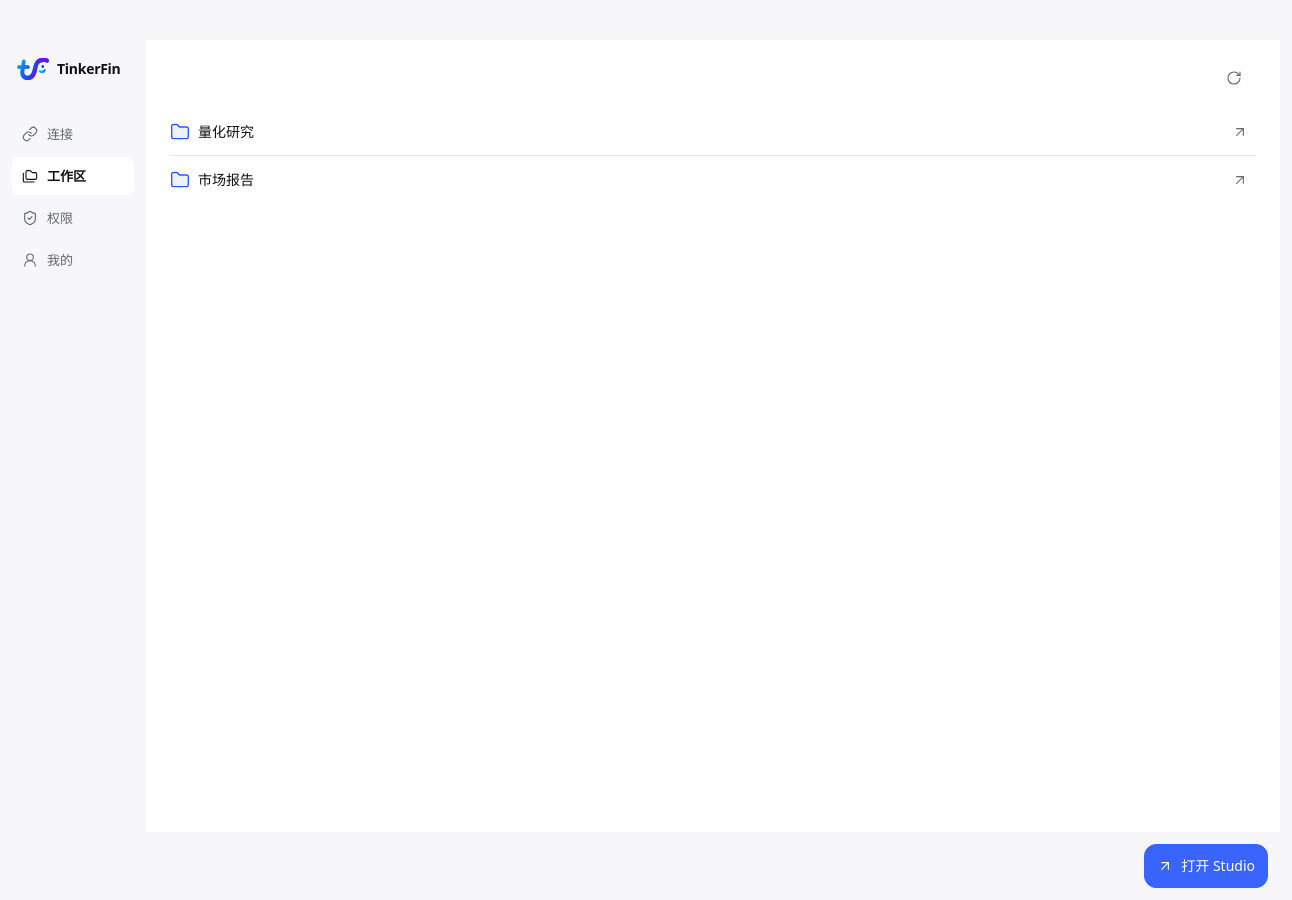
桌面真实动作边界 › 输入法Escape不取消草稿，退出登录成功才清除未提交编辑
Click the button "我的" at (73, 260), box [12, 241, 134, 279]
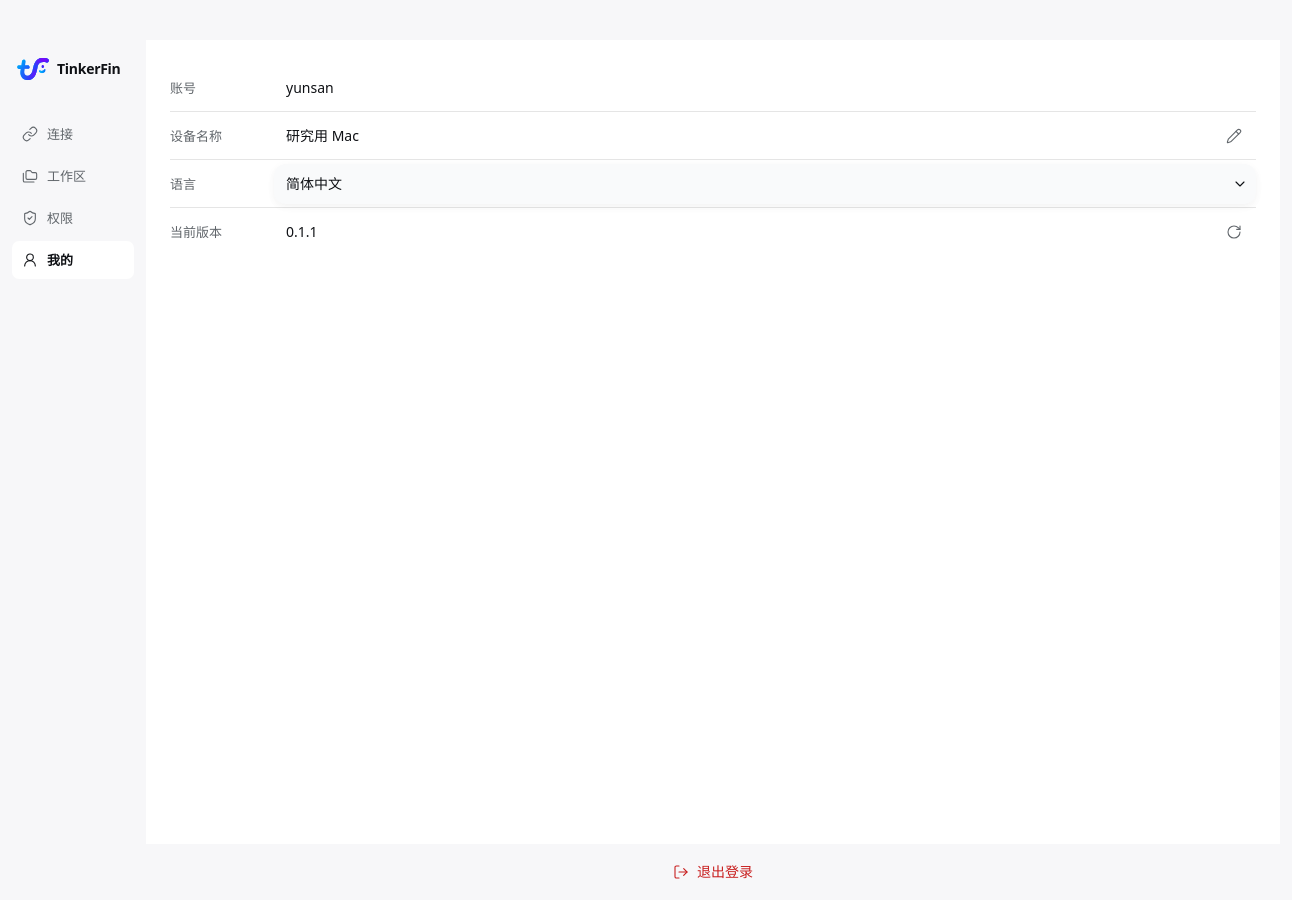
Click the button named "编辑设备名称" at (1234, 136), box [1212, 114, 1256, 158]
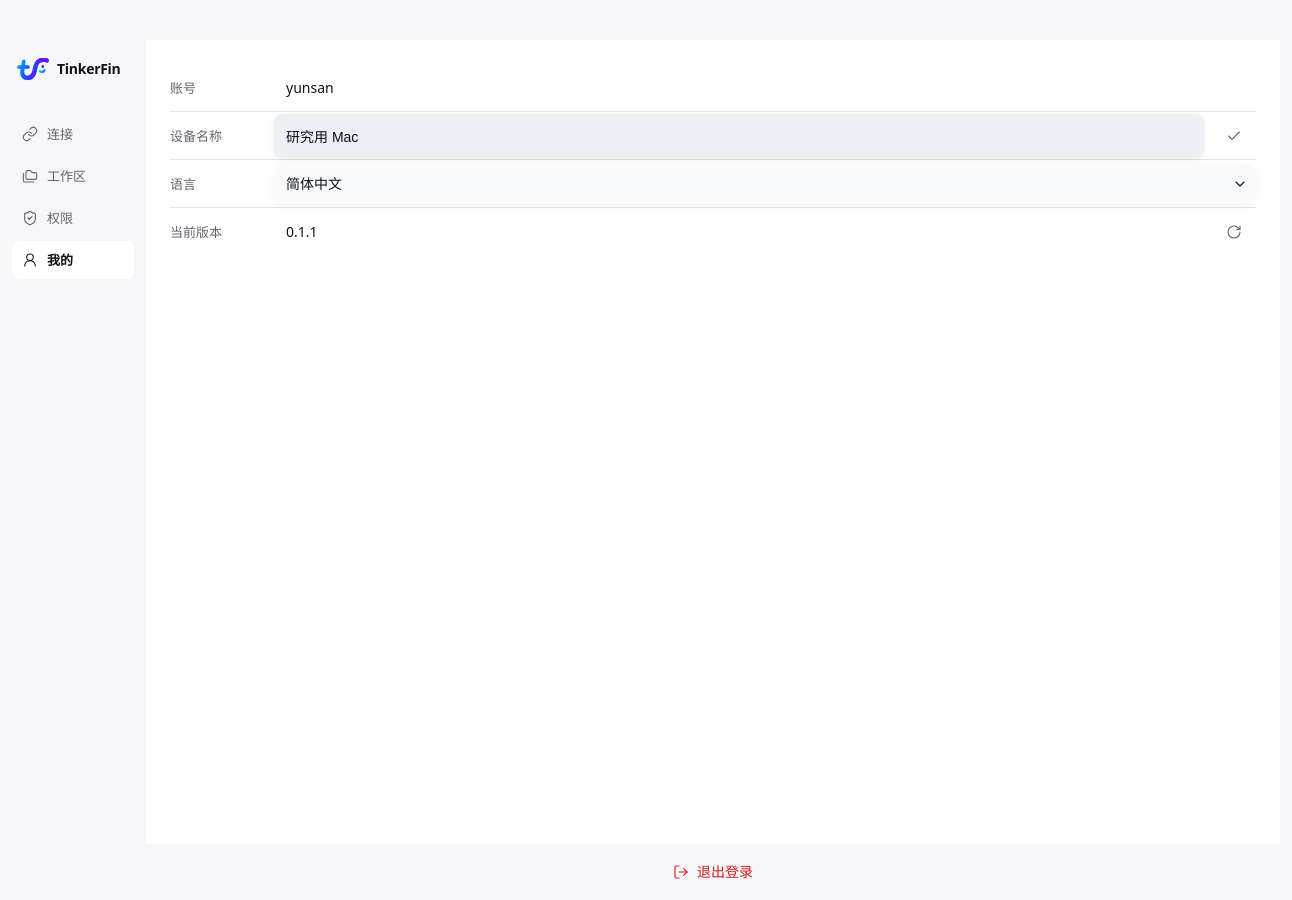
Replace the text in the field named "设备名称" with "尚未提交" at (739, 136), box [286, 114, 1192, 158]
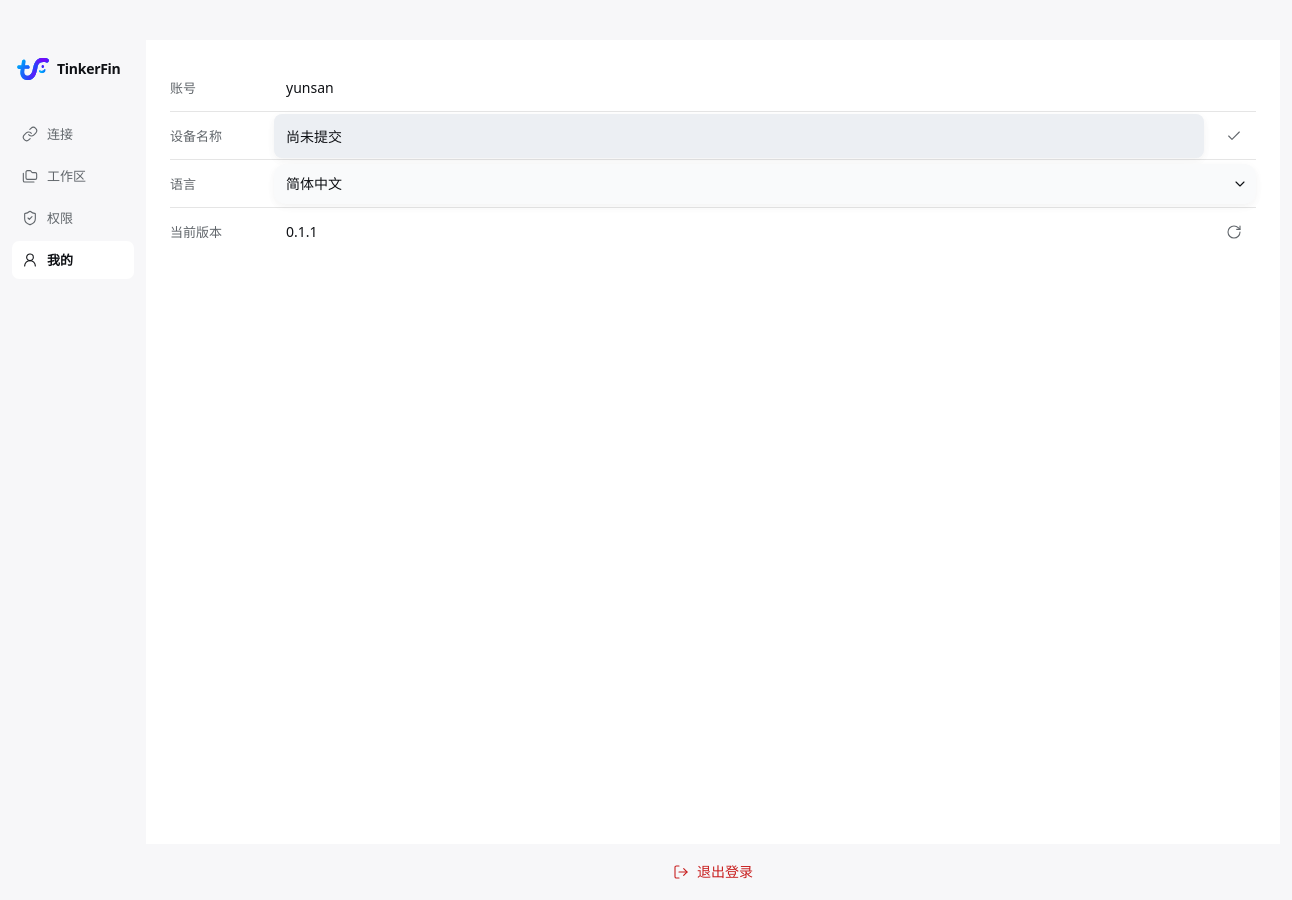
Press Escape in the field named "设备名称", box [286, 114, 1192, 158]
Click the button "退出登录" at (713, 872), box [146, 844, 1280, 899]
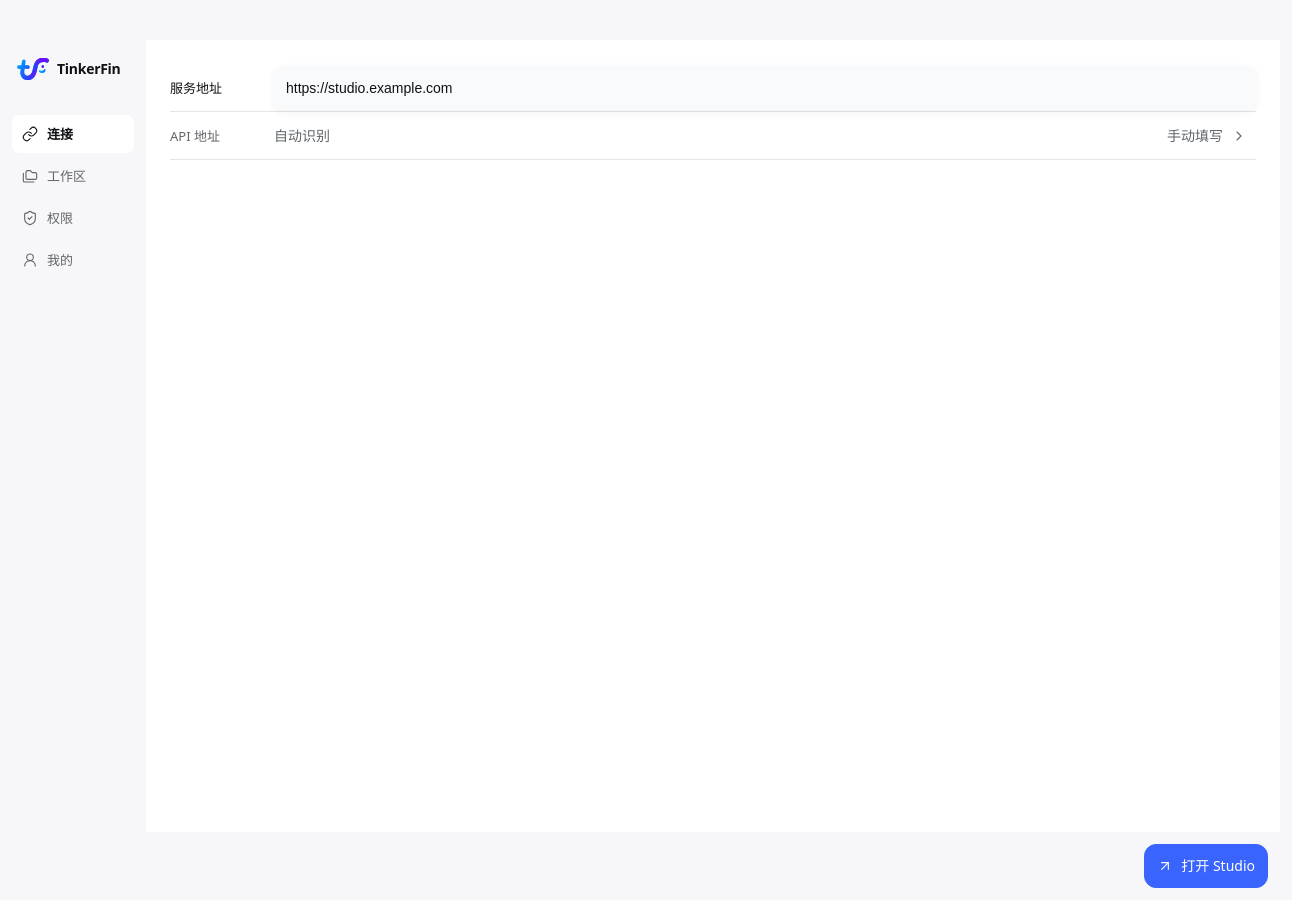
Click the button "我的" at (73, 260), box [12, 241, 134, 279]
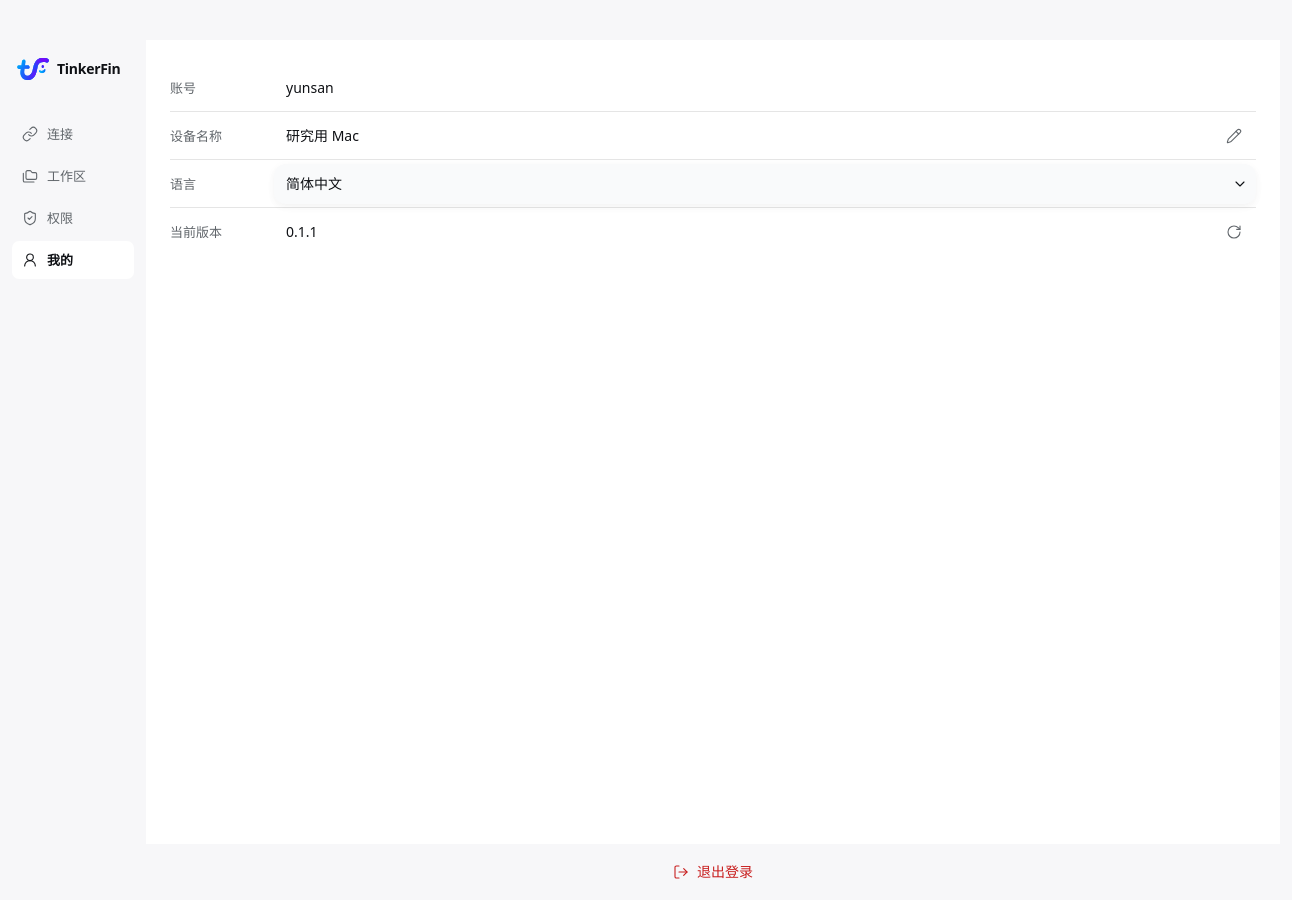
Check: the text "研究用 Mac" is shown, box [274, 124, 359, 146]
